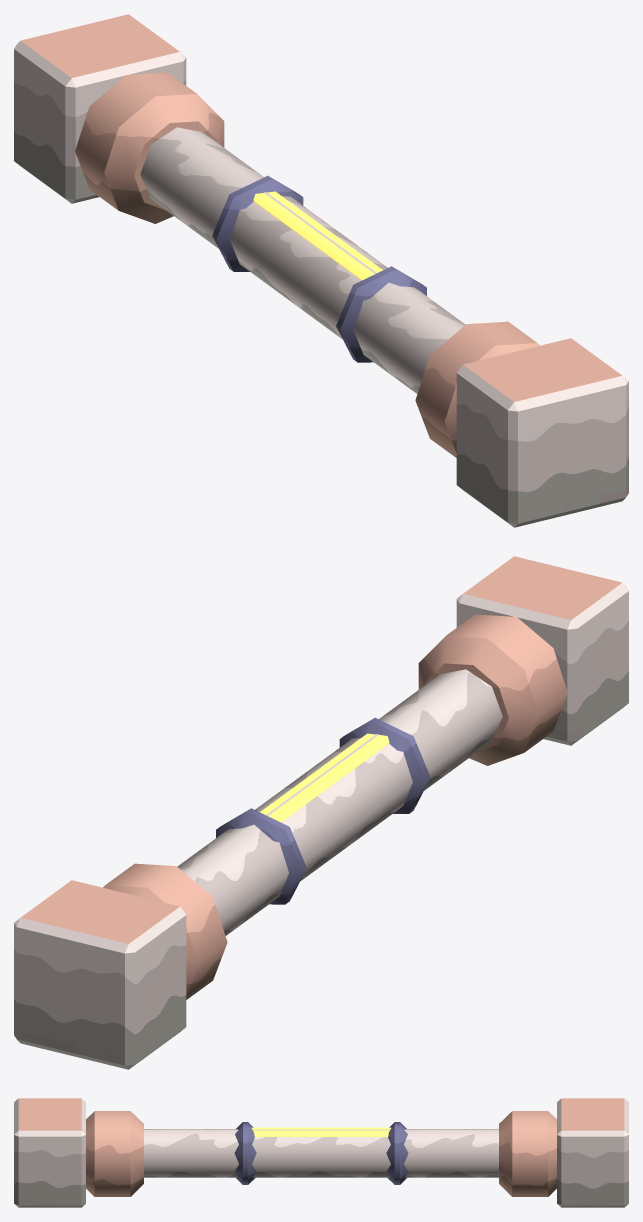
File: R4C_ROD_STANDARD_LOD1.glb
3 renders of one model, top to bottom at view 1: azimuth 30°, elevation 25°; view 2: azimuth 150°, elevation 25°; view 3: azimuth 270°, elevation 25°, orthographic. The views are drawn at different scales.
Visible parts, largest first — view 1: R4C_ROD_STANDARD_LOD1; view 2: R4C_ROD_STANDARD_LOD1; view 3: R4C_ROD_STANDARD_LOD1.
Boxes of the visible parts, x1,y1,x2,y2 form: R4C_ROD_STANDARD_LOD1: (14, 14, 628, 527); R4C_ROD_STANDARD_LOD1: (14, 556, 628, 1069); R4C_ROD_STANDARD_LOD1: (14, 1098, 628, 1207).
Size of the model in its own units: 0.2281 by 0.2278 by 1.62.
Materials: 4 (3 with a texture image).
